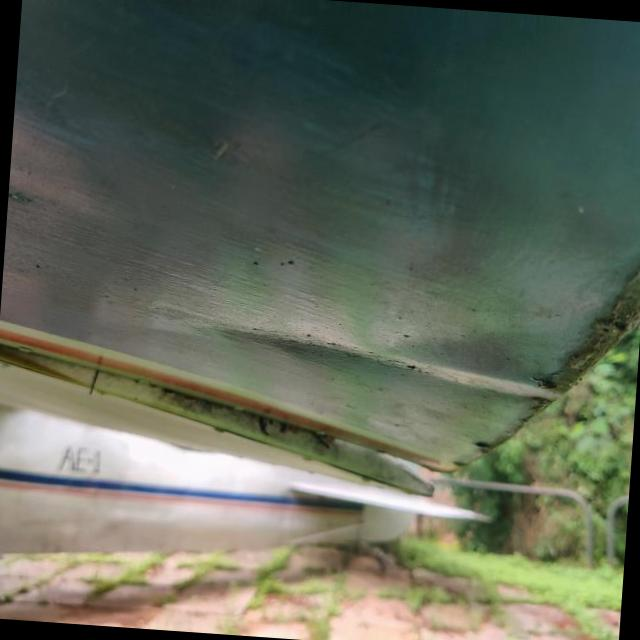dent: (195, 319, 572, 424)
